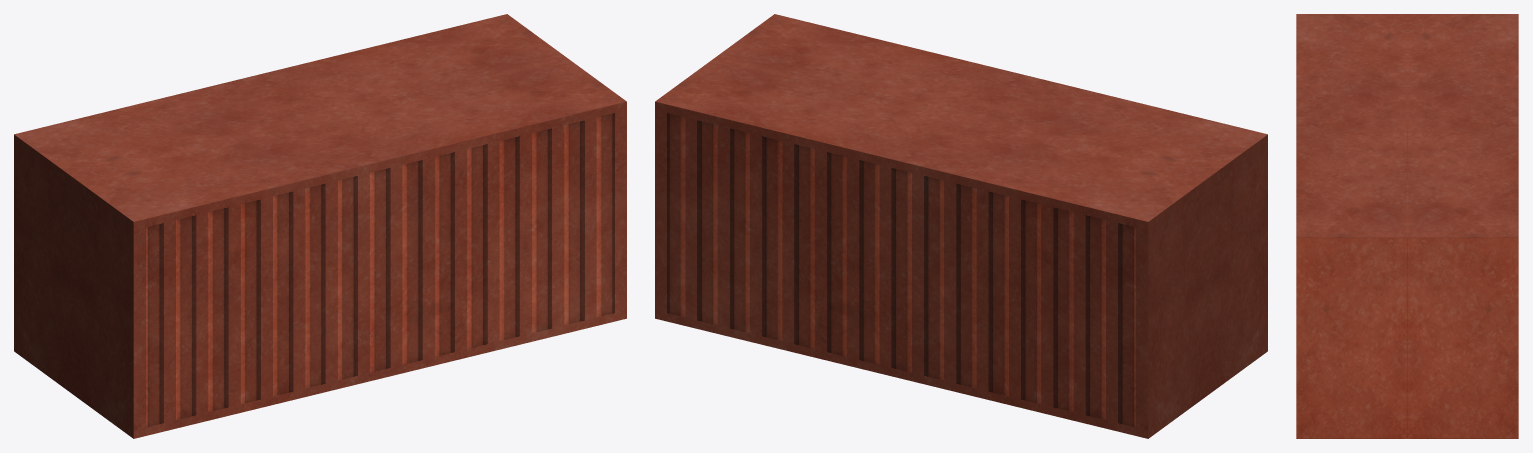
File: contena (1).fbx
The picture shows the model from 3 angles, left to right: view 1: azimuth 30°, elevation 25°; view 2: azimuth 150°, elevation 25°; view 3: azimuth 270°, elevation 25°; orthographic projection. The views are drawn at different scales.
Parts seen in each view (by area): view 1: Cube; view 2: Cube; view 3: Cube.
Boxes of the visible parts, x1,y1,x2,y2 form: Cube: (14,14,626,438); Cube: (655,14,1267,438); Cube: (1296,14,1518,438).
Bounding box in the file's own units: 352 × 148 × 148.
